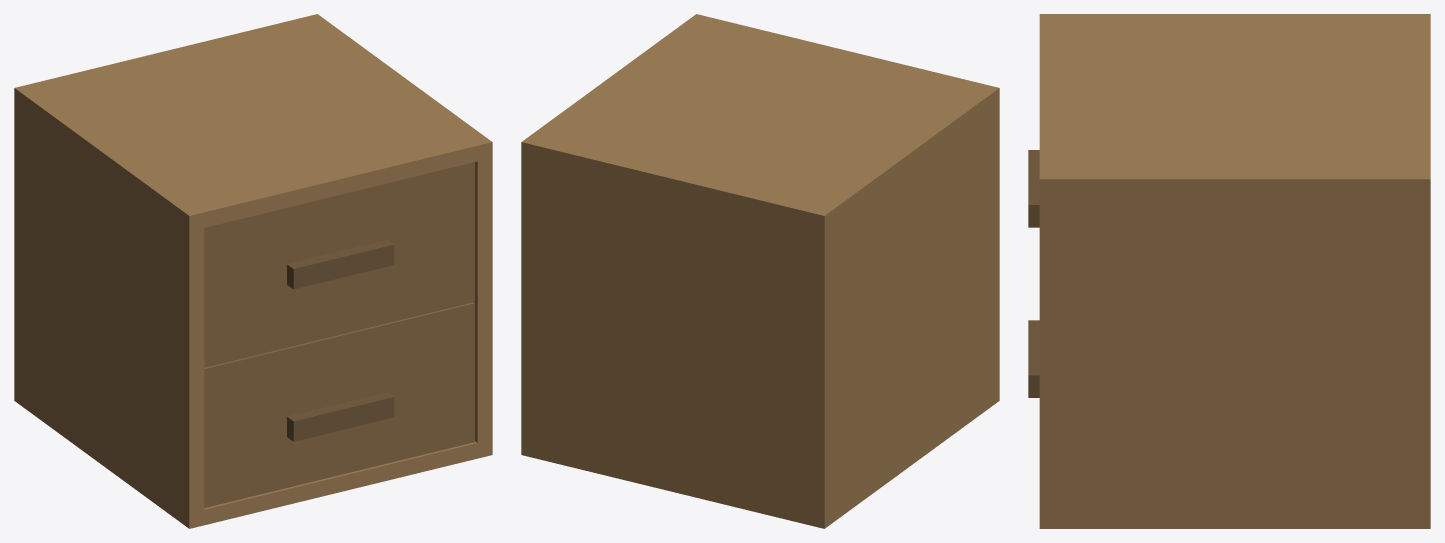
File: boss desk side kast.fbx
The picture shows the model from 3 angles, left to right: view 1: azimuth 30°, elevation 25°; view 2: azimuth 150°, elevation 25°; view 3: azimuth 270°, elevation 25°; orthographic projection. The views are drawn at different scales.
Visible parts, largest first — view 1: Cube.155, Cube.136, Cube.149, Cube.134, Cube.137; view 2: Cube.155; view 3: Cube.155, Cube.134, Cube.137.
Boxes of the visible parts, x1,y1,x2,y2 form: Cube.155: (14,14,492,528); Cube.136: (204,302,474,507); Cube.149: (204,162,474,367); Cube.134: (287,239,394,289); Cube.137: (287,392,394,441); Cube.155: (521,14,999,528); Cube.155: (1039,14,1430,528); Cube.134: (1028,150,1039,227); Cube.137: (1028,320,1039,397).
Bounding box in the file's own units: 200 × 197 × 206.
